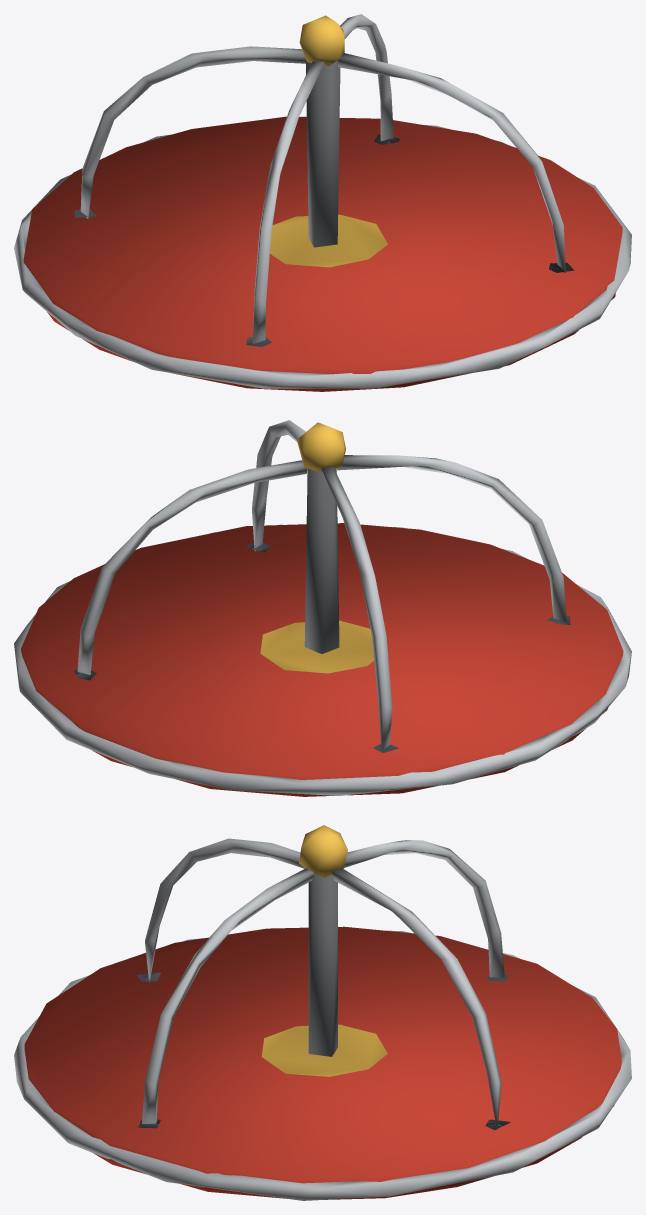
Rendered from merryGoRound.far.glb.
3 renders of one model, top to bottom at view 1: azimuth 30°, elevation 25°; view 2: azimuth 150°, elevation 25°; view 3: azimuth 270°, elevation 25°, orthographic.
Visible parts, largest first — view 1: merryGoRound_far; view 2: merryGoRound_far; view 3: merryGoRound_far.
Part boxes in pixels (<box>): merryGoRound_far: <box>14,14,631,391</box>; merryGoRound_far: <box>14,420,631,796</box>; merryGoRound_far: <box>14,825,631,1200</box>.
Bounding box in the file's own units: 1.96 × 1.04 × 1.96.
